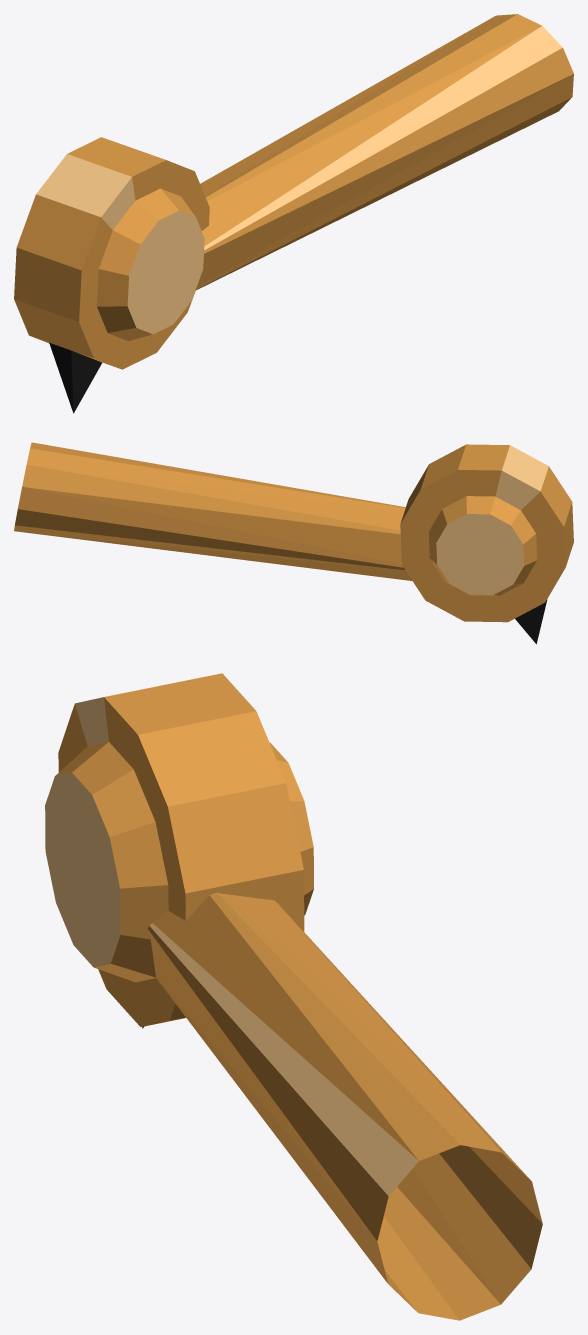
Rendered from Gr_needle.fbx.
3 views of the same model, one above another, from view 1: azimuth 30°, elevation 25°; view 2: azimuth 150°, elevation 25°; view 3: azimuth 270°, elevation 25° (orthographic). The views are drawn at different scales.
Parts seen in each view (by area): view 1: group225046476.001; view 2: group225046476.001; view 3: group225046476.001.
Part boxes in pixels (x1,y1,x2,y2): group225046476.001: (14, 14, 573, 413); group225046476.001: (14, 442, 573, 644); group225046476.001: (45, 673, 542, 1320).
Size of the model in its own units: 31.76 by 11.48 by 13.99.
